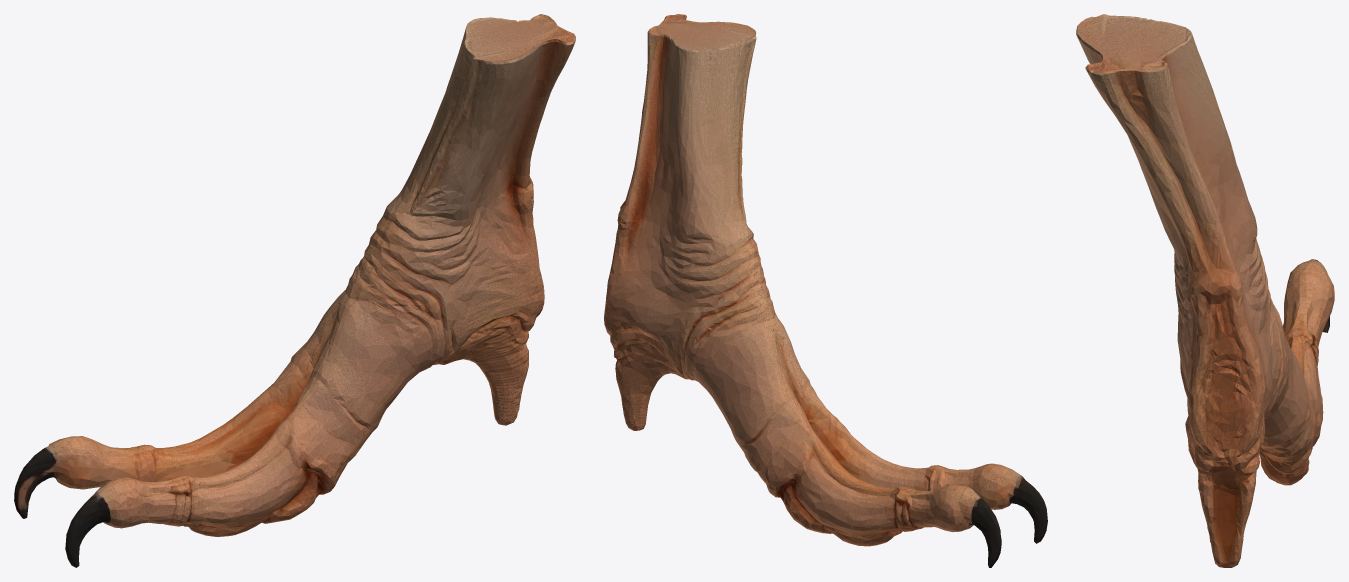
File: foot (31).glb
The picture shows the model from 3 angles, left to right: view 1: azimuth 30°, elevation 25°; view 2: azimuth 150°, elevation 25°; view 3: azimuth 270°, elevation 25°; orthographic projection. The views are drawn at different scales.
Visible parts, largest first — view 1: Hy21_Mesh.obj; view 2: Hy21_Mesh.obj; view 3: Hy21_Mesh.obj.
Part boxes in pixels (x1,y1,x2,y2): Hy21_Mesh.obj: (14,14,575,567); Hy21_Mesh.obj: (604,14,1047,567); Hy21_Mesh.obj: (1076,14,1334,567).
Size of the model in its own units: 1.96 by 1.84 by 0.7703.
Materials: 1 (1 with a texture image).
